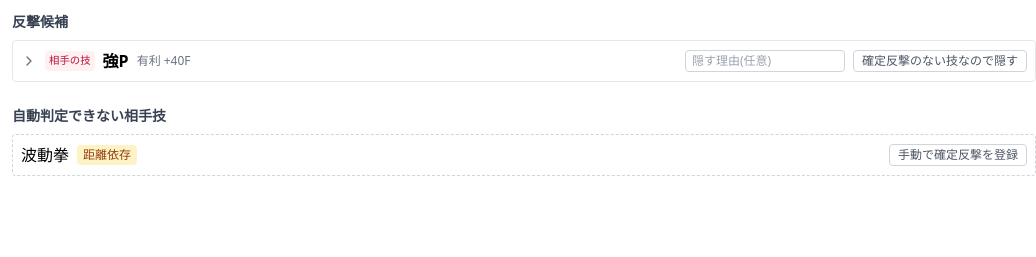
Test: PunishTree › 成立ツリーの新規登録はキャラと hit_type を固定するが、自動採用用の相手技は渡さない
The width and height of the screenshot is (1036, 257).
Click the button with aria-label "expand": [106, 61] box [21,49,191,73]
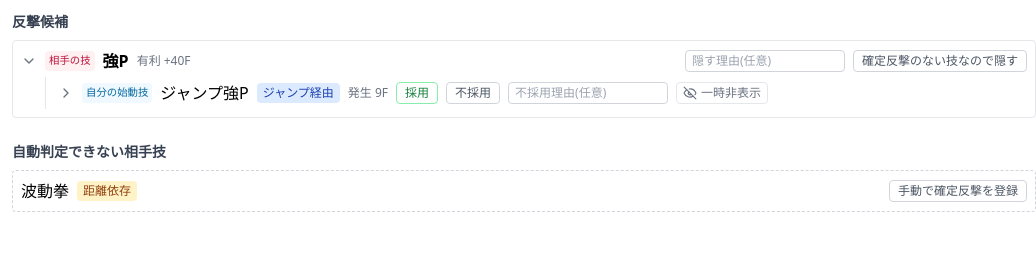
Click the button with aria-label "expand": [223, 93] box [58,81,388,105]
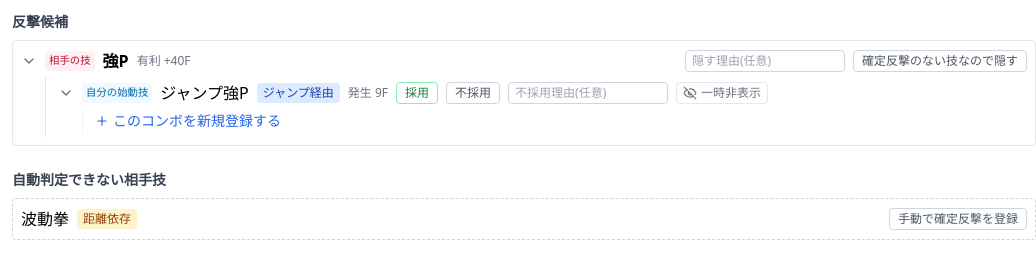
Click the button "このコンボを新規登録する": [188, 121] box [95,111,281,131]
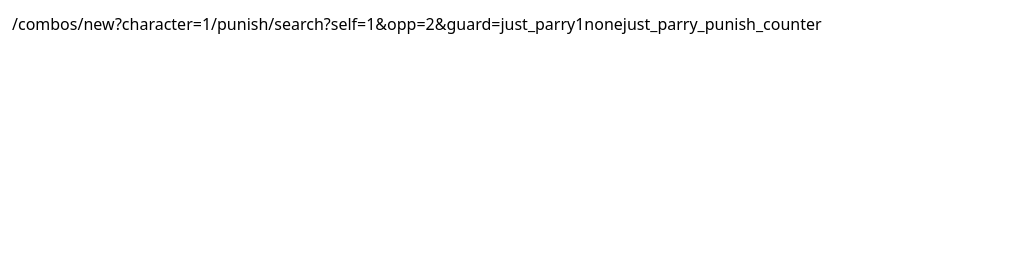
Expected: the text with test id "probe-path" reads "/combos/new", [12,13,115,35]
Expected: the text with test id "probe-search" reads "?character=1", [115,13,211,35]
Expected: the text with test id "probe-return" reads "/punish/search?self=1&opp=2&guard=just_parry", [211,13,575,35]
